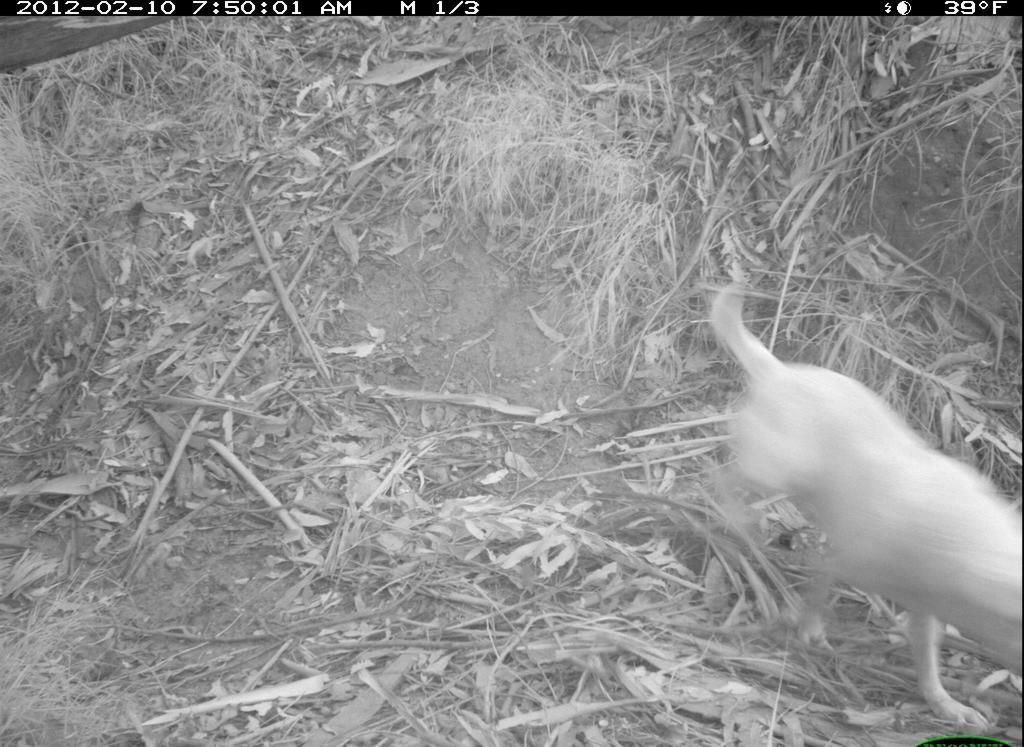dog: (675, 257, 1017, 730)
